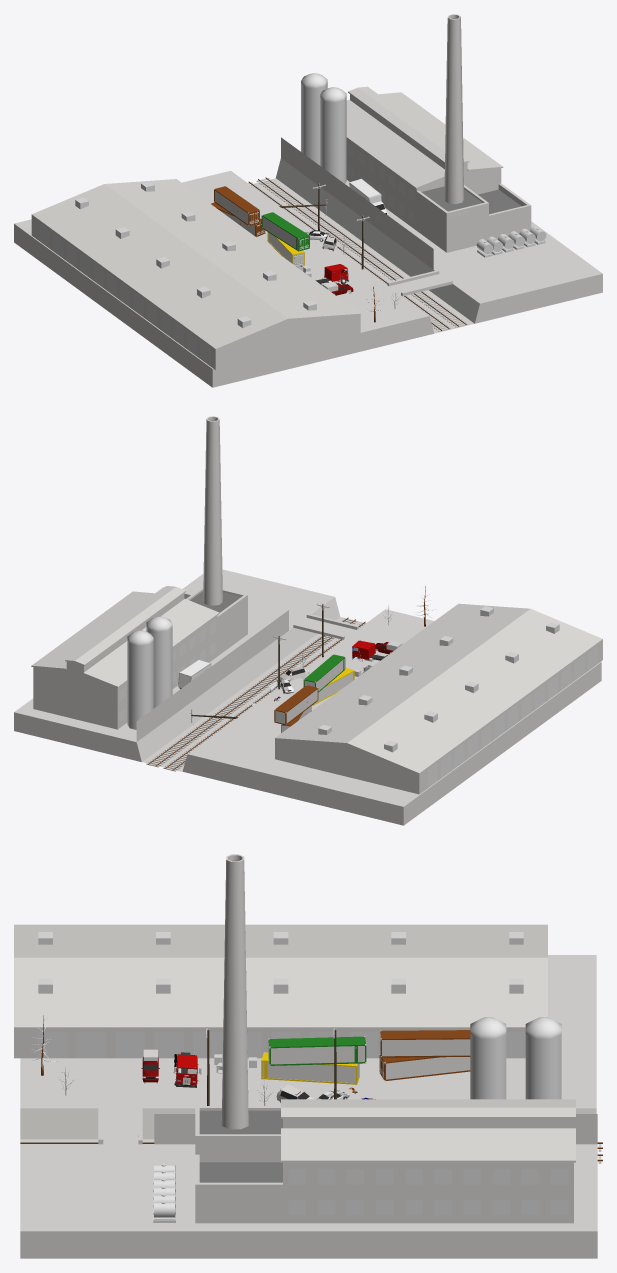
The model's file is factory.fbx.
The picture shows the model from 3 angles, top to bottom: view 1: azimuth 30°, elevation 25°; view 2: azimuth 150°, elevation 25°; view 3: azimuth 270°, elevation 25°; orthographic projection. The views are drawn at different scales.
Parts seen in each view (by area): view 1: Layer0_001, Warehouse_001, Industrial factory_001, Silo_002, Tracks#1_002, Silo_001, Shipping container 40'#2_001, Shipping container 40'_003, Tracks#1_001, Shipping container 40'#1_001, Large grip delivery truck_001; view 2: Layer0_001, Warehouse_001, Industrial factory_001, Silo_001, Tracks#1_002, Silo_002, Shipping container 40'_003, Shipping container 40'#2_001, Tracks#1_001, Shipping container 40'#1_001; view 3: Layer0_001, Warehouse_001, Industrial factory_001, Silo_001, Silo_002, Shipping container 40'#2_001, Shipping container 40'_003, Shipping container 40'#1_001, Shipping container 40'_001, Component#1_025, Component#1_024, Component#1_026 (+4 smaller).
Part boxes in pixels (x1,y1,x2,y2): Layer0_001: (14, 137, 602, 387); Warehouse_001: (31, 179, 360, 370); Industrial factory_001: (346, 14, 531, 252); Silo_002: (320, 87, 346, 183); Tracks#1_002: (256, 177, 468, 327); Silo_001: (301, 73, 327, 165); Shipping container 40'#2_001: (261, 212, 309, 251); Shipping container 40'_003: (214, 186, 259, 225); Tracks#1_001: (248, 181, 451, 331); Shipping container 40'#1_001: (267, 232, 304, 265); Large grip delivery truck_001: (349, 178, 388, 215); Layer0_001: (14, 569, 601, 825); Warehouse_001: (275, 603, 602, 794); Industrial factory_001: (31, 416, 247, 729); Silo_001: (127, 630, 153, 729); Tracks#1_002: (146, 617, 357, 767); Silo_002: (146, 616, 172, 708); Shipping container 40'_003: (274, 685, 318, 724); Shipping container 40'#2_001: (303, 654, 345, 692); Tracks#1_001: (163, 621, 365, 771); Shipping container 40'#1_001: (313, 667, 354, 705); Layer0_001: (20, 955, 597, 1258); Warehouse_001: (14, 924, 547, 1058); Industrial factory_001: (195, 854, 575, 1223); Silo_001: (525, 1017, 561, 1099); Silo_002: (470, 1017, 506, 1099); Shipping container 40'#2_001: (268, 1036, 366, 1065); Shipping container 40'_003: (380, 1030, 470, 1057); Shipping container 40'#1_001: (261, 1052, 359, 1084); Shipping container 40'_001: (379, 1055, 470, 1080); Component#1_025: (77, 1031, 106, 1058); Component#1_024: (116, 1031, 144, 1058); Component#1_026: (38, 1031, 67, 1058).
Size of the model in its own units: 82099 by 48167 by 73958.
